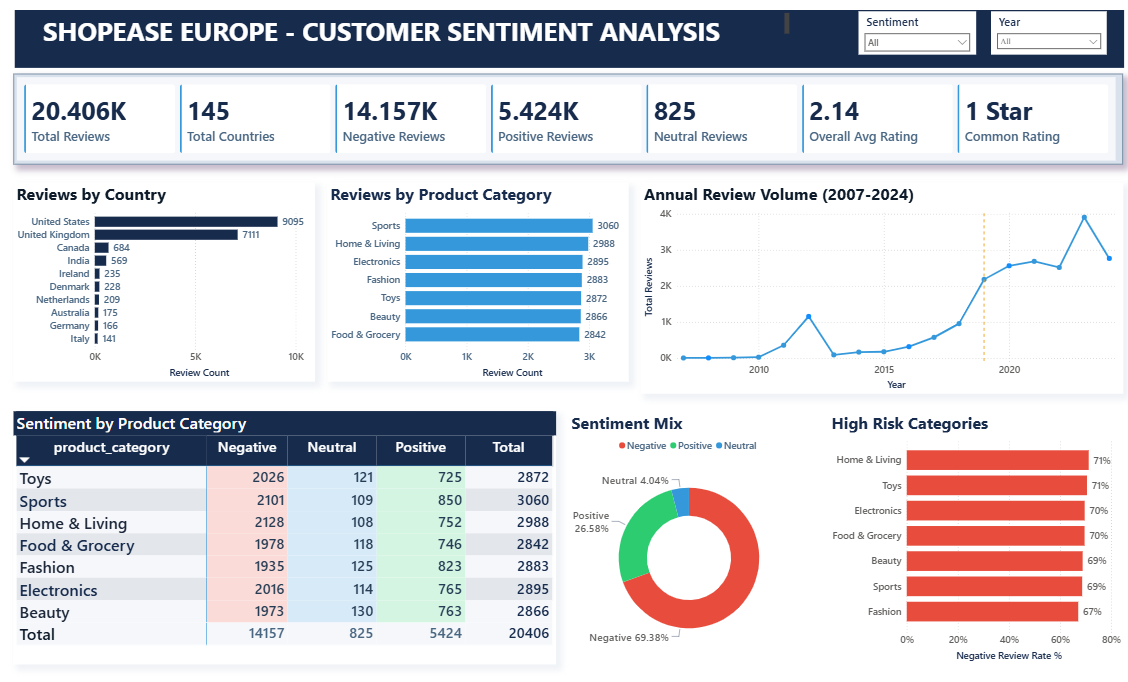

Layout of this report page (visuals, bound fields, positions):
{"tool":"powerbi","page":{"name":"Executive Overview","canvas":[1900,1200],"ordinal":0},"visuals":[{"type":"pivotTable","title":"Sentiment by Product Category","fields":{"Columns":["amazon_reviews_cleaned_processe.sentiment"],"Rows":["amazon_reviews_cleaned_processe.product_category"],"Values":["amazon_reviews_cleaned_processe.Sentiment Count"]},"box":[30,690,900,420],"z":0},{"type":"barChart","title":"Reviews by Country","fields":{"Category":["amazon_reviews_cleaned_processe.Country Name"],"Y":["CountNonNull(amazon_reviews_cleaned_processe.review_id)"]},"box":[30,310,500,330],"z":1000},{"type":"lineChart","title":"Annual Review Volume (2007-2024)","fields":{"Category":["amazon_reviews_cleaned_processe.year_month.Variation.Date Hierarchy.Year"],"Y":["amazon_reviews_cleaned_processe.Total Reviews"]},"box":[1070,310,800,350],"z":2000},{"type":"clusteredBarChart","title":"Reviews by Product Category ","fields":{"Category":["amazon_reviews_cleaned_processe.product_category"],"Y":["CountNonNull(amazon_reviews_cleaned_processe.review_id)"]},"box":[550,310,500,330],"z":3000},{"type":"cardVisual","fields":{"Data":["amazon_reviews_cleaned_processe.Total Reviews","amazon_reviews_cleaned_processe.Total Countries","amazon_reviews_cleaned_processe.Negative Reviews","amazon_reviews_cleaned_processe.Positive Reviews","amazon_reviews_cleaned_processe.Neutral Reviews","amazon_reviews_cleaned_processe.Overall Avg Rating","Sheet1.Most Common Rating Label"]},"box":[30,130,1840,150],"z":5000},{"type":"donutChart","title":"Sentiment Mix","fields":{"Category":["amazon_reviews_cleaned_processe.sentiment"],"Y":["amazon_reviews_cleaned_processe.Total Reviews"]},"box":[950,690,400,420],"z":6000},{"type":"clusteredBarChart","title":"High Risk Categories","fields":{"Category":["amazon_reviews_cleaned_processe.product_category"],"Y":["Sheet1.Negative Rate %"]},"box":[1380,690,490,420],"z":7000},{"type":"shape","box":[32,24,1840,96],"z":10000},{"type":"textbox","box":[72,24,1248,72],"z":10500},{"type":"slicer","fields":{"Values":["amazon_reviews_cleaned_processe.sentiment"]},"box":[1430,27,195,72],"z":11000},{"type":"slicer","fields":{"Values":["amazon_reviews_cleaned_processe.year"]},"box":[1650,27,192,72],"z":11500}]}

Visuals, with their boxes on the page's 1900x1200 design canvas (x1, y1, x2, y2). These are canvas units, not pixel positions in the 1128x682 screenshot, which may show the page scaled, cropped or inside an application window:
"Sentiment by Product Category" pivotTable: (30, 690, 930, 1110)
"Reviews by Country" barChart: (30, 310, 530, 640)
"Annual Review Volume (2007-2024)" lineChart: (1070, 310, 1870, 660)
"Reviews by Product Category " clusteredBarChart: (550, 310, 1050, 640)
cardVisual - amazon_reviews_cleaned_processe.Total Reviews x amazon_reviews_cleaned_processe.Total Countries: (30, 130, 1870, 280)
"Sentiment Mix" donutChart: (950, 690, 1350, 1110)
"High Risk Categories" clusteredBarChart: (1380, 690, 1870, 1110)
shape: (32, 24, 1872, 120)
textbox: (72, 24, 1320, 96)
slicer - amazon_reviews_cleaned_processe.sentiment: (1430, 27, 1625, 99)
slicer - amazon_reviews_cleaned_processe.year: (1650, 27, 1842, 99)
